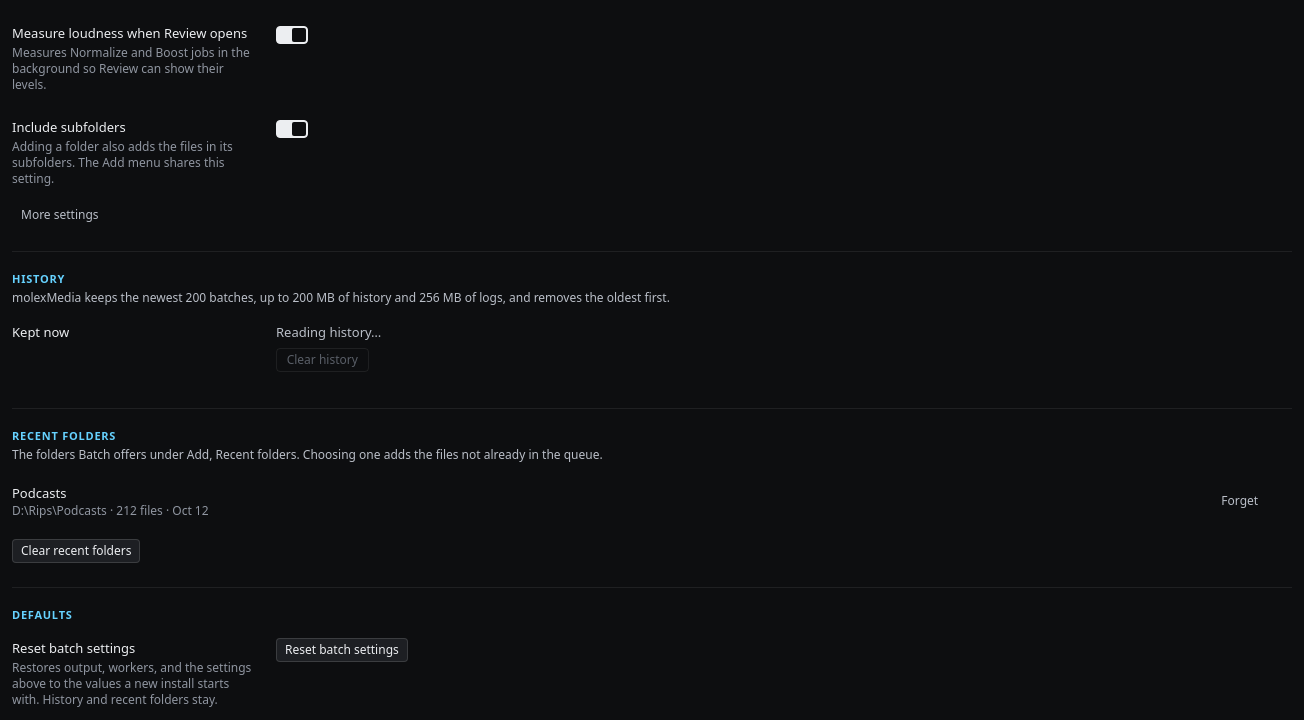
it: BatchSettings › resets every field through the engine after a confirmation
The width and height of the screenshot is (1304, 720).
(page scrolled)
Click the button "Reset batch settings" at (342, 650), box [276,638,408,662]
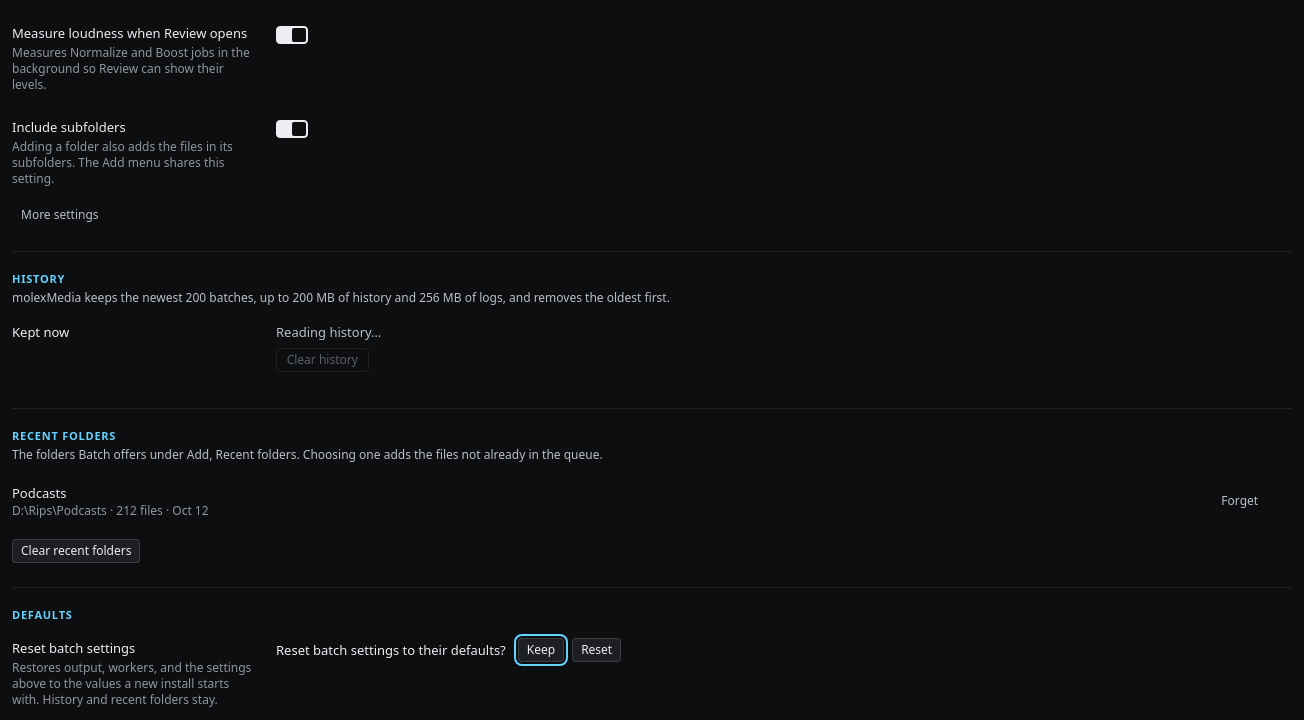
Click the button "Reset" at (597, 650), box [572,638,621,662]
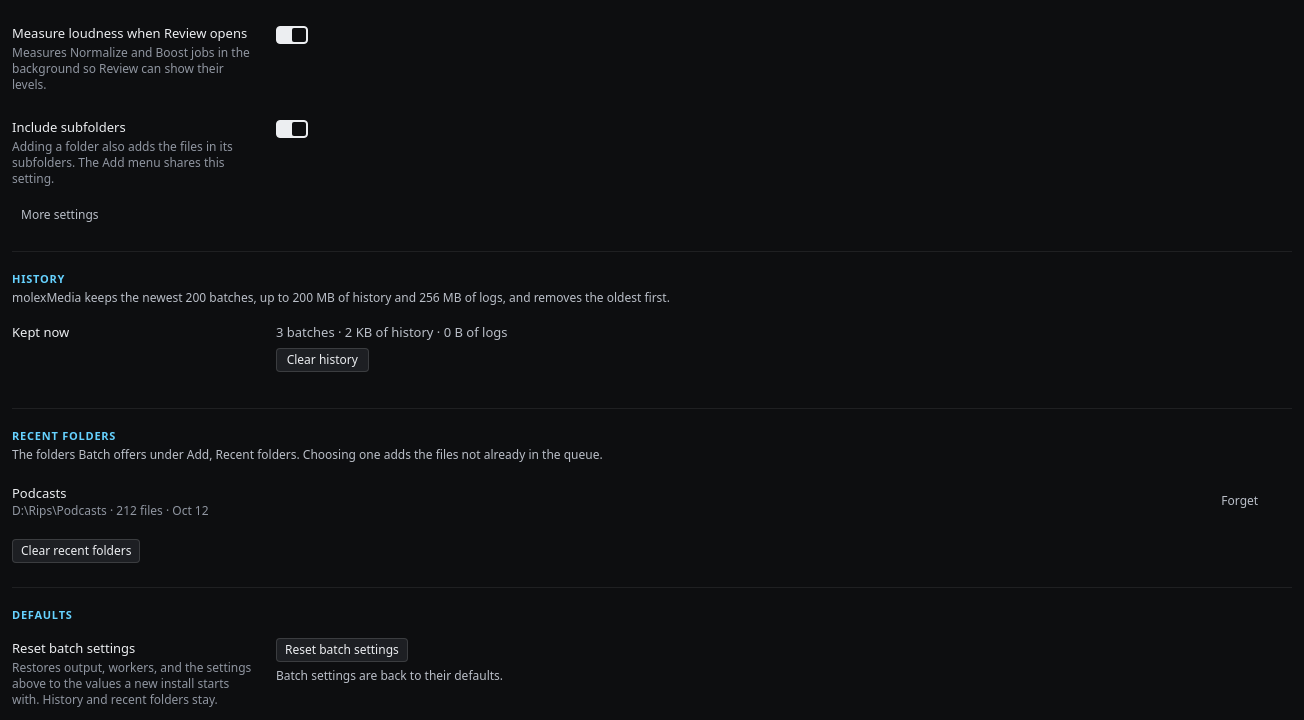
Expected: the text "Batch settings are back to their defaults." is shown, [276,667,503,684]
